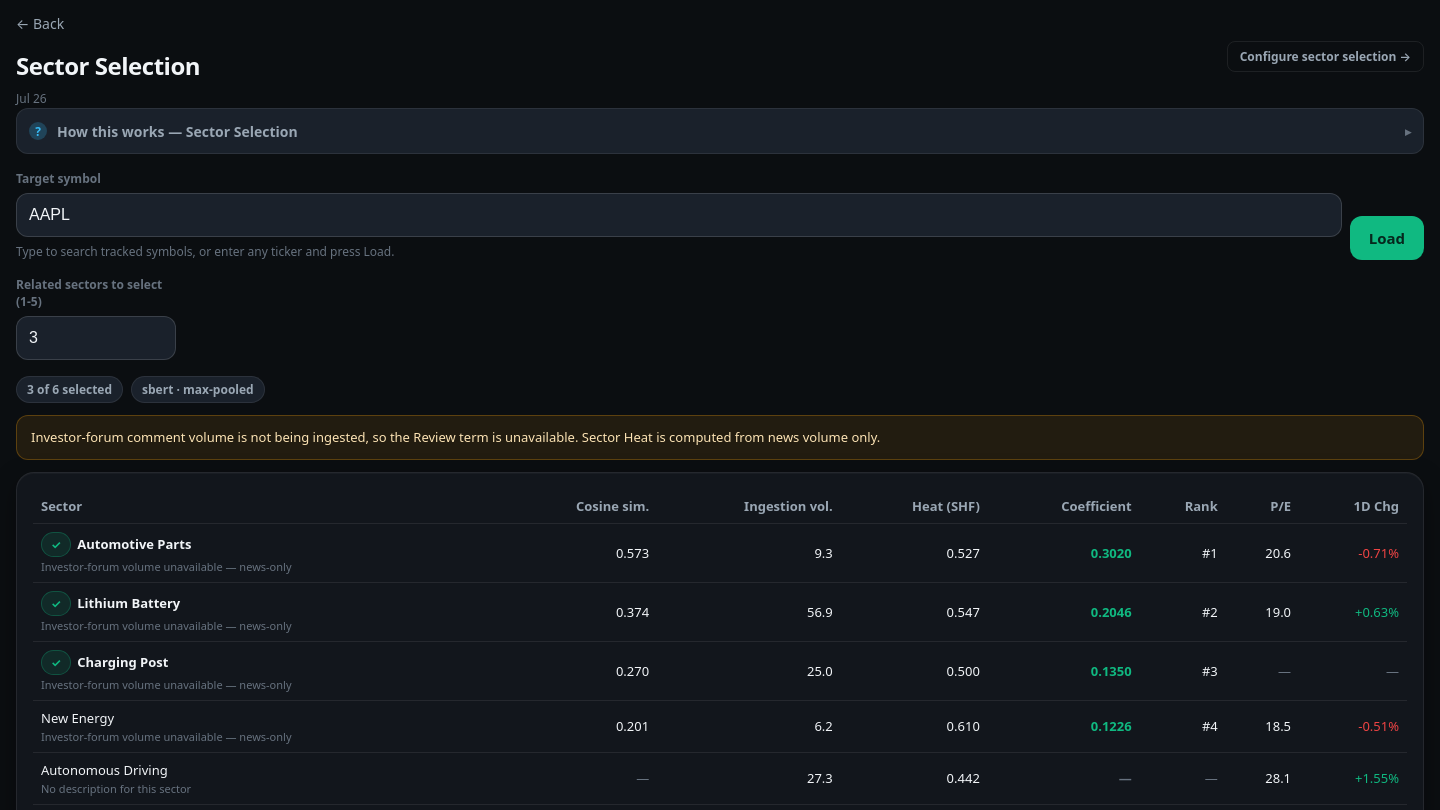
SectorSelection screen (real mock API) › an untracked symbol renders the honest cold-start empty state, not an error
Check: the text "New Energy" is shown, box 41,709 -> 114,727
Replace the text in the dropdown with test id "symbol-input" with "ZZZZ_UNTRACKED". click: point(679, 215)
box: 16,193 -> 1342,237
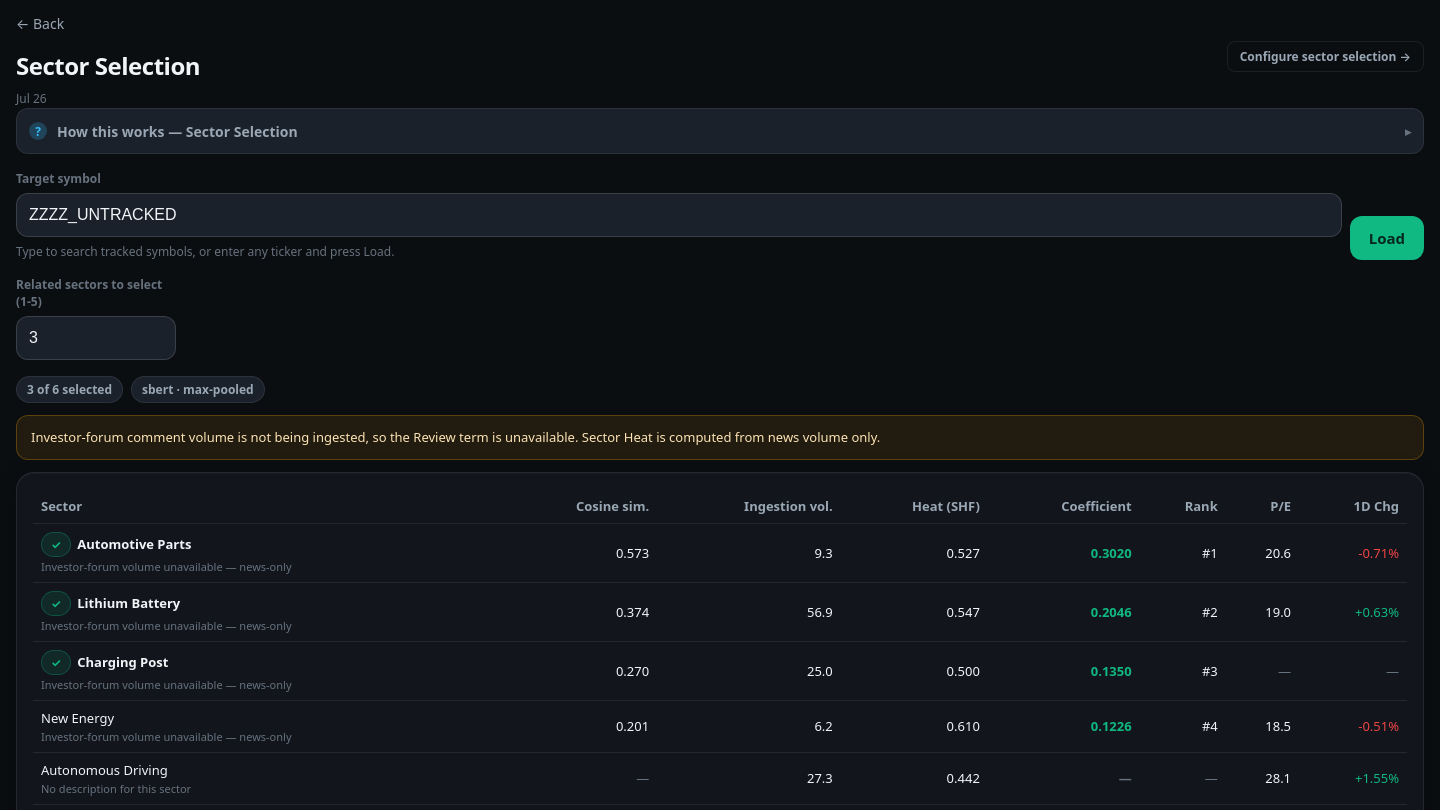
Submit the form with test id "symbol-input", box 16,170 -> 1424,260
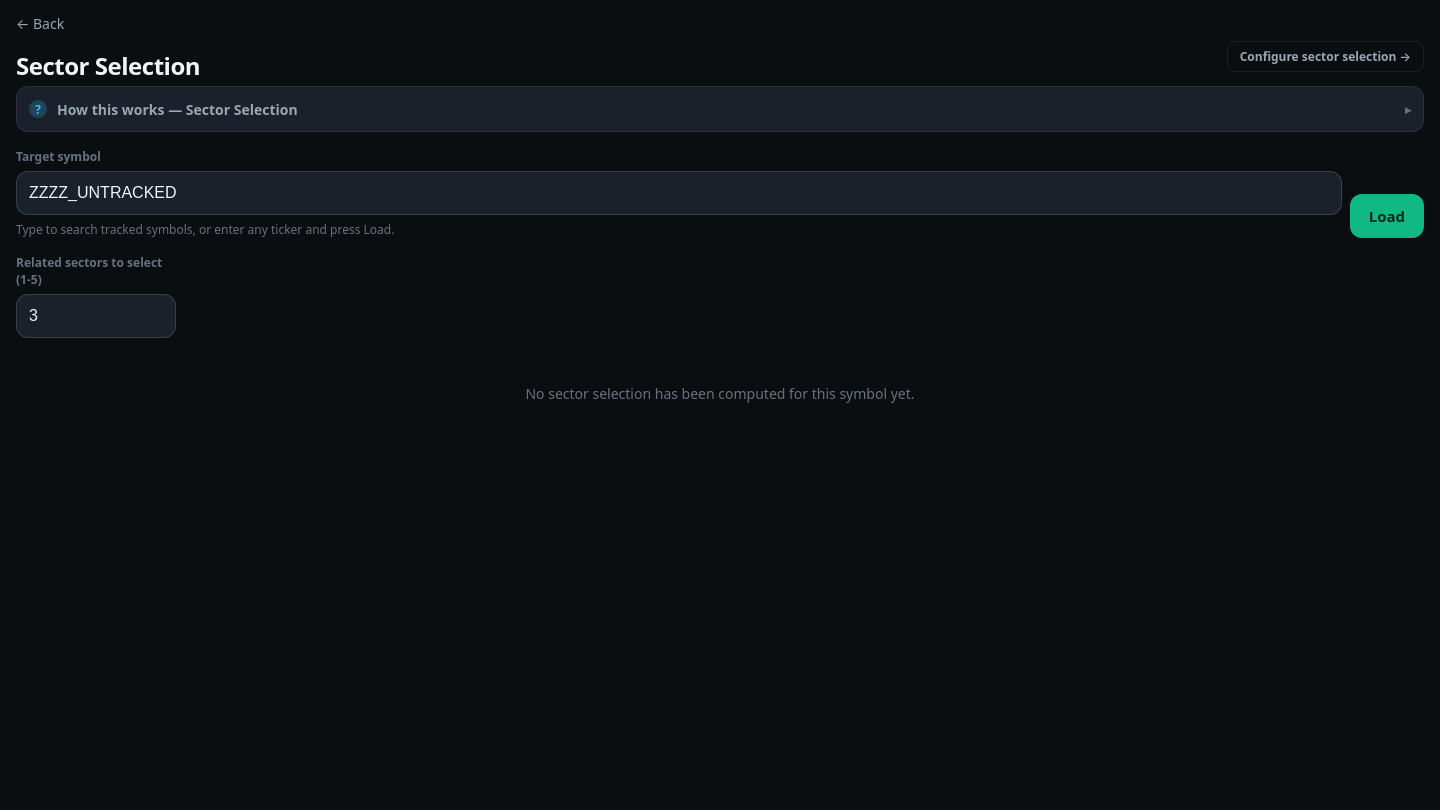
Check: the text "No sector selection has been computed for this symbol yet." is shown, box 526,384 -> 914,403
